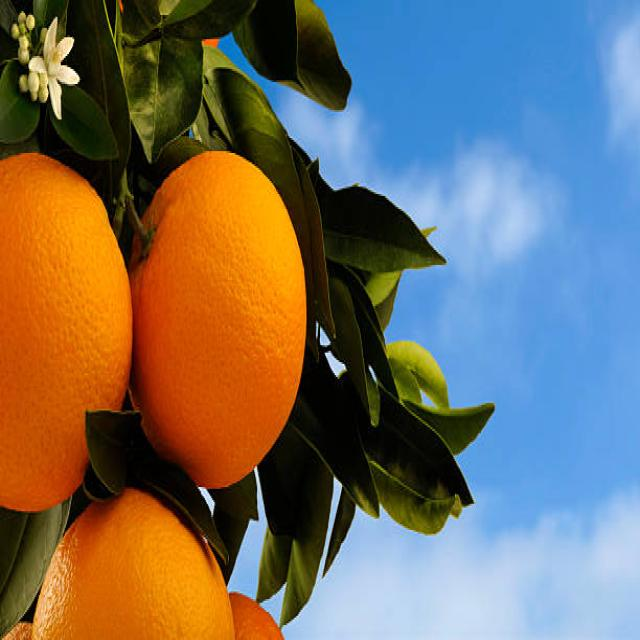Ripe: (125, 149, 314, 496), (0, 147, 133, 515), (34, 498, 238, 640)
